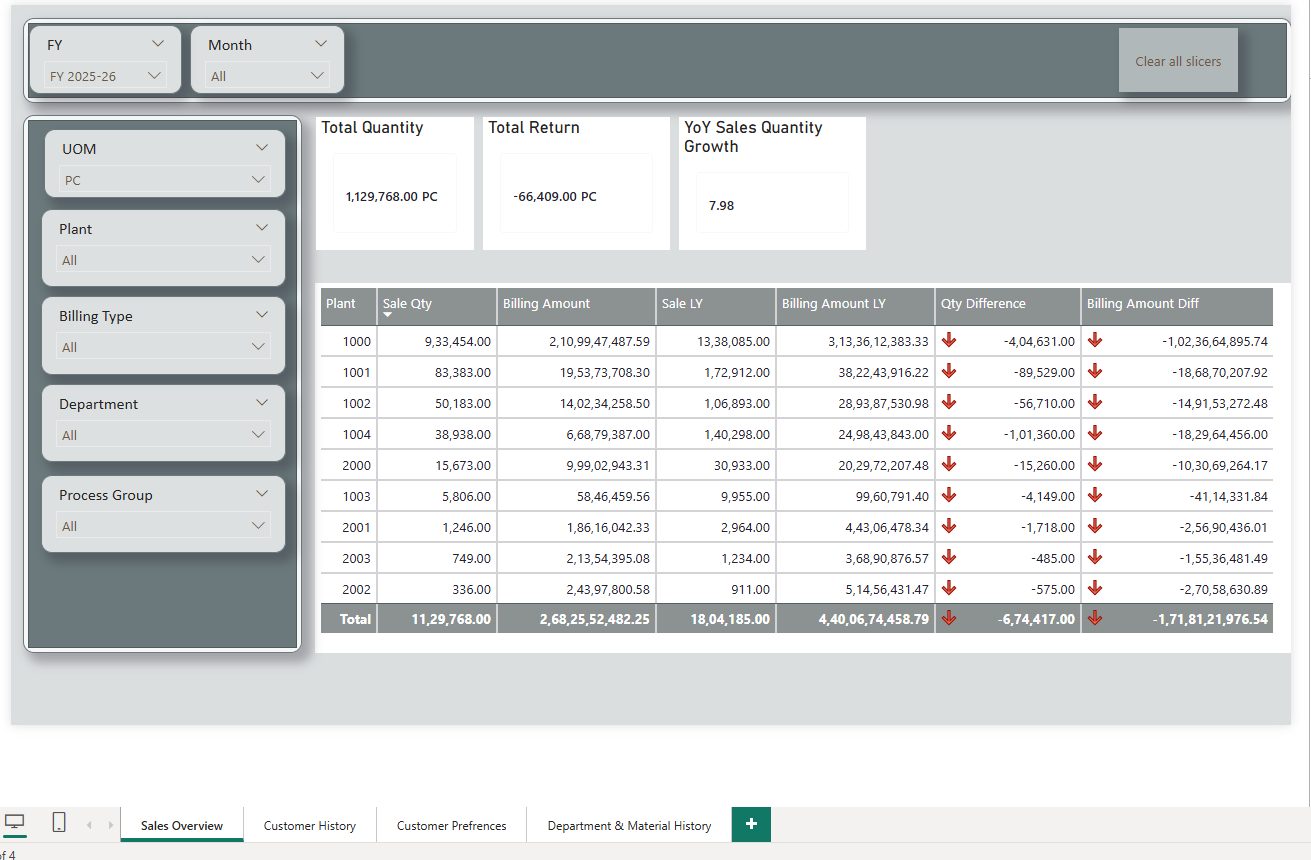

The dashboard page shown, as its layout file describes it:
{"tool":"powerbi","page":{"name":"Sales Overview","canvas":[1280,720],"ordinal":0},"visuals":[{"type":"shape","box":[11.7,12.6,1269.3,85.6],"z":0},{"type":"slicer","fields":{"Values":["DateTable.FY"]},"box":[18.5,20.4,152.7,69.1],"z":1000},{"type":"slicer","title":"Month","fields":{"Values":["DateTable.Month Name"]},"box":[179,20.4,154.7,69.1],"z":2000},{"type":"actionButton","box":[1107.8,23.3,119.6,63.2],"z":3000},{"type":"tableEx","fields":{"Values":["yngs_sales sales_invoice_data.Plant","sales_invoice_data.Sale Qty","sales_invoice_data.Billing Amount","sales_invoice_data.Sale LY","sales_invoice_data.Billing Amount LY","sales_invoice_data.Qty Difference","sales_invoice_data.Billing Amount Diff"]},"box":[304.4,278.2,975.6,369.6],"z":4000},{"type":"shape","box":[11.7,109.9,279.1,537.9],"z":5000},{"type":"cardVisual","title":"Total Quantity","fields":{"Data":["sales_invoice_data.Total Quantity(PC/M)"]},"box":[305.5,111.7,157.7,133.6],"z":6000},{"type":"slicer","fields":{"Values":["Unit Of Measurment.UOM"]},"box":[32.8,123.7,242,69],"z":7000},{"type":"slicer","title":"Plant","fields":{"Values":["yngs_sales plant_master.Plant_Code"]},"box":[29.6,203.7,245.3,78.8],"z":8000},{"type":"slicer","fields":{"Values":["Document Type.Document Type"]},"box":[29.6,291.3,245.3,78.8],"z":9000},{"type":"cardVisual","title":"Total Return","fields":{"Data":["sales_invoice_data.Return Quantity (PC & M)"]},"box":[471.9,111.7,187.2,133.6],"z":10000},{"type":"cardVisual","title":"YoY Sales Quantity Growth","fields":{"Data":["sales_invoice_data.YoY Sale Quantity Growth %"]},"box":[667.9,111.7,187.2,133.6],"z":11000},{"type":"slicer","fields":{"Values":["yngs_sales sales_group_master.Sales_Group"]},"box":[29.7,379,244.8,78.3],"z":12000},{"type":"slicer","fields":{"Values":["yngs_sales process_group_master.Process_Group_Name"]},"box":[29.7,469.9,244.8,78.3],"z":13000}]}

Visuals, with their boxes in screenshot pixels (x1, y1, x2, y2):
shape: {"left": 25, "top": 16, "right": 1262, "bottom": 99}
slicer - DateTable.FY: {"left": 32, "top": 23, "right": 180, "bottom": 91}
"Month" slicer: {"left": 188, "top": 23, "right": 339, "bottom": 91}
actionButton: {"left": 1093, "top": 26, "right": 1209, "bottom": 88}
tableEx - yngs_sales sales_invoice_data.Plant x sales_invoice_data.Sale Qty: {"left": 310, "top": 274, "right": 1261, "bottom": 635}
shape: {"left": 25, "top": 110, "right": 297, "bottom": 635}
"Total Quantity" cardVisual: {"left": 311, "top": 112, "right": 465, "bottom": 242}
slicer - Unit Of Measurment.UOM: {"left": 46, "top": 124, "right": 281, "bottom": 191}
"Plant" slicer: {"left": 42, "top": 202, "right": 281, "bottom": 279}
slicer - Document Type.Document Type: {"left": 42, "top": 287, "right": 281, "bottom": 364}
"Total Return" cardVisual: {"left": 473, "top": 112, "right": 656, "bottom": 242}
"YoY Sales Quantity Growth" cardVisual: {"left": 664, "top": 112, "right": 847, "bottom": 242}
slicer - yngs_sales sales_group_master.Sales_Group: {"left": 43, "top": 373, "right": 281, "bottom": 449}
slicer - yngs_sales process_group_master.Process_Group_Name: {"left": 43, "top": 461, "right": 281, "bottom": 537}
